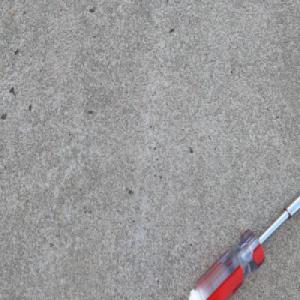Screwdriver: (187, 190, 300, 300)
